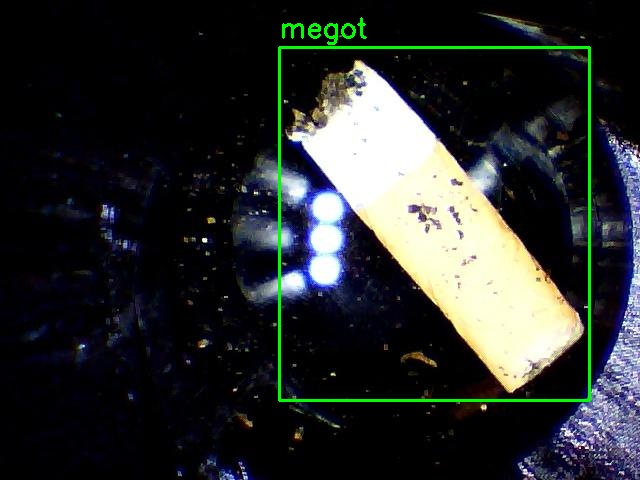megot: (279, 47, 589, 400)
